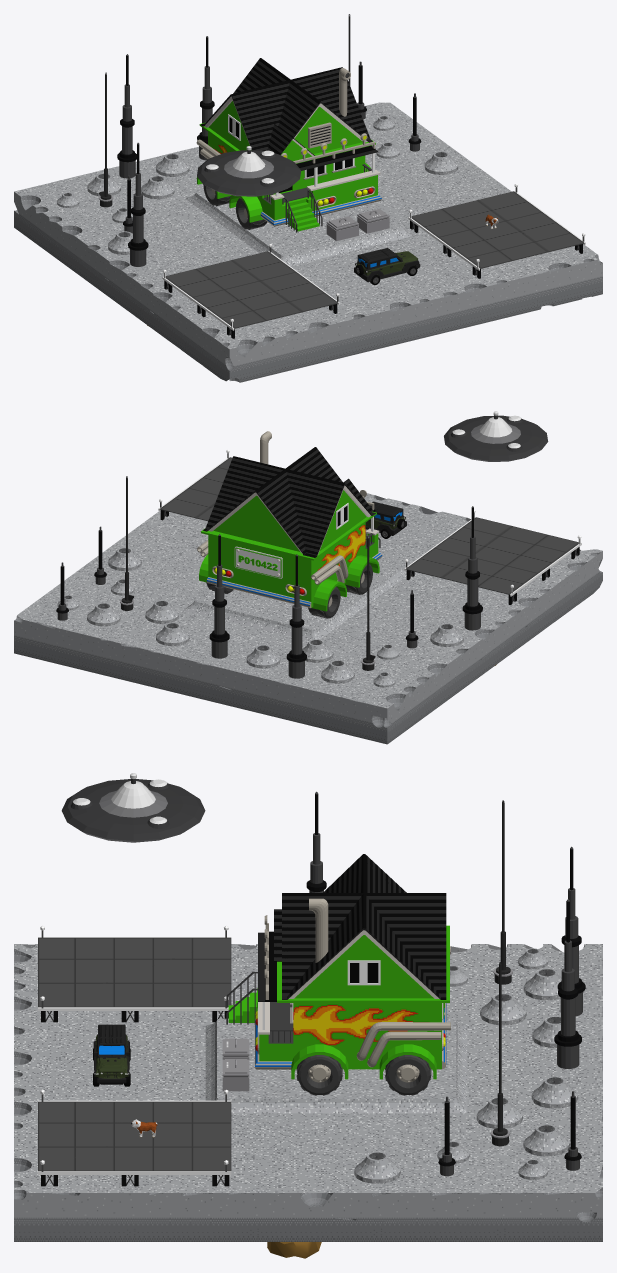
3 renders of one model, top to bottom at view 1: azimuth 30°, elevation 25°; view 2: azimuth 150°, elevation 25°; view 3: azimuth 270°, elevation 25°, orthographic. The views are drawn at different scales.
Parts seen in each view (by area): view 1: Cube.027, Cube.1474, Cube.025, Cube.026, Cube.028, OBJRANDOM_UFO, VEHICLES_JEEP, Cylinder.021, Cylinder.020, Cylinder.017, Cube.029, Cube.030 (+4 smaller); view 2: Cube.027, Cube.1474, Cube.025, Cube.028, OBJRANDOM_UFO, Cube.026, Cylinder.020, Cylinder.021, Cylinder.017, VEHICLES_JEEP, Cylinder.027, Cylinder.029 (+8 smaller); view 3: Cube.027, Cube.1474, Cube.026, Cube.025, Cube.028, OBJRANDOM_UFO, Cylinder.017, VEHICLES_JEEP, Cylinder.020, Cylinder.033, Cylinder.031, Cylinder.029 (+11 smaller).
Boxes of the visible parts, left/top/right/bottom form: Cube.027: left=14, top=102, right=602, bottom=382; Cube.1474: left=196, top=58, right=381, bottom=232; Cube.025: left=162, top=244, right=339, bottom=338; Cube.026: left=408, top=184, right=585, bottom=278; Cube.028: left=186, top=190, right=411, bottom=265; OBJRANDOM_UFO: left=197, top=146, right=301, bottom=196; VEHICLES_JEEP: left=354, top=247, right=420, bottom=285; Cylinder.021: left=128, top=142, right=148, bottom=266; Cylinder.020: left=117, top=54, right=136, bottom=178; Cylinder.017: left=197, top=36, right=214, bottom=160; Cube.029: left=326, top=216, right=358, bottom=241; Cube.030: left=357, top=209, right=389, bottom=233; Cube.027: left=14, top=492, right=602, bottom=744; Cube.1474: left=197, top=431, right=382, bottom=618; Cube.025: left=404, top=510, right=581, bottom=604; Cube.028: left=184, top=560, right=406, bottom=640; OBJRANDOM_UFO: left=444, top=411, right=548, bottom=461; Cube.026: left=158, top=450, right=232, bottom=521; Cylinder.020: left=286, top=554, right=306, bottom=678; Cylinder.021: left=462, top=506, right=482, bottom=630; Cylinder.017: left=209, top=534, right=229, bottom=658; VEHICLES_JEEP: left=365, top=501, right=406, bottom=538; Cylinder.027: left=246, top=645, right=280, bottom=668; Cylinder.029: left=156, top=622, right=189, bottom=646; Cube.027: left=14, top=944, right=602, bottom=1241; Cube.1474: left=226, top=854, right=450, bottom=1095; Cube.026: left=38, top=1089, right=231, bottom=1186; Cube.025: left=38, top=925, right=231, bottom=1022; Cube.028: left=205, top=1018, right=467, bottom=1113; OBJRANDOM_UFO: left=61, top=773, right=205, bottom=842; Cylinder.017: left=554, top=899, right=581, bottom=1068; VEHICLES_JEEP: left=93, top=1024, right=130, bottom=1086; Cylinder.020: left=557, top=846, right=585, bottom=1016; Cylinder.033: left=354, top=1151, right=400, bottom=1183; Cylinder.031: left=523, top=1124, right=569, bottom=1156; Cylinder.029: left=531, top=1076, right=578, bottom=1108.
Size of the model in its own units: 4000 by 2152 by 4000.
Materials: 40 (5 with a texture image).
